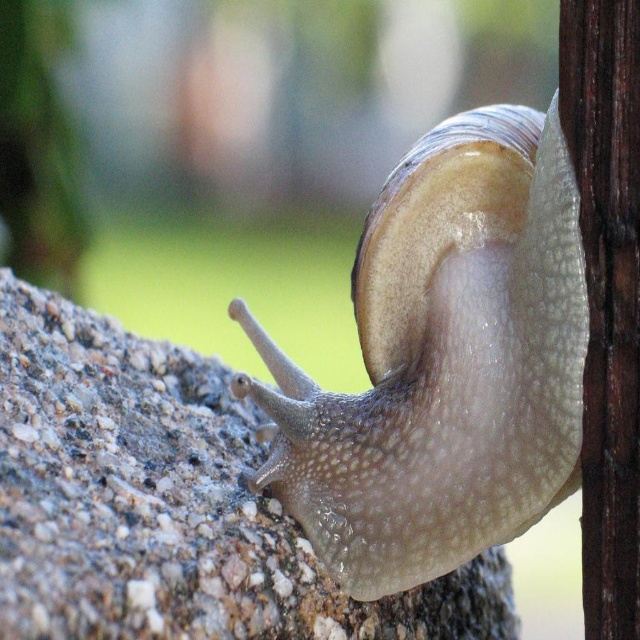Snail: (225, 83, 591, 605)
